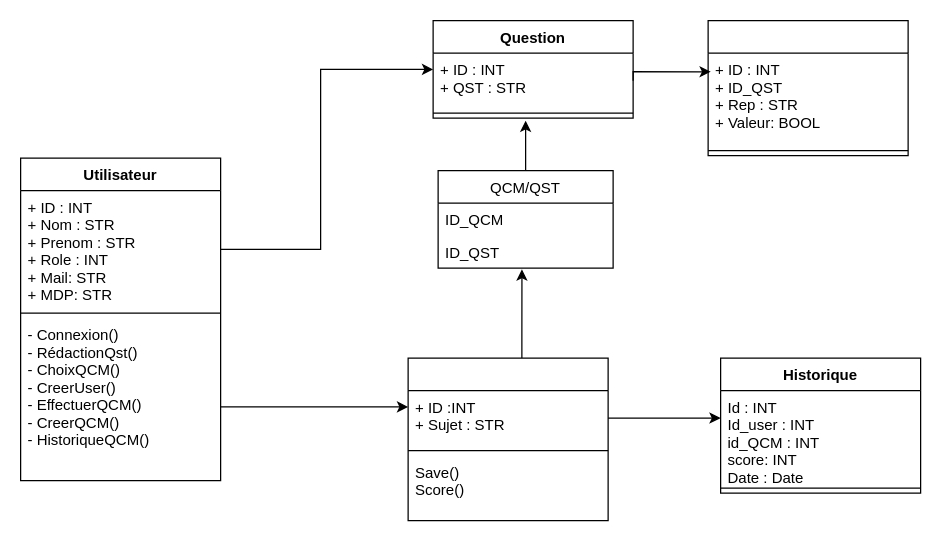
The diagram is 941 pixels wide and 541 high, and some of its shapes have lost their labels. The shapes that lost their labels are listed below. From the top down, each one's box as (x1, y1, x2, y2) in pixels, then its label:
(707, 19, 908, 156): Reponse
(407, 357, 608, 521): QCM
